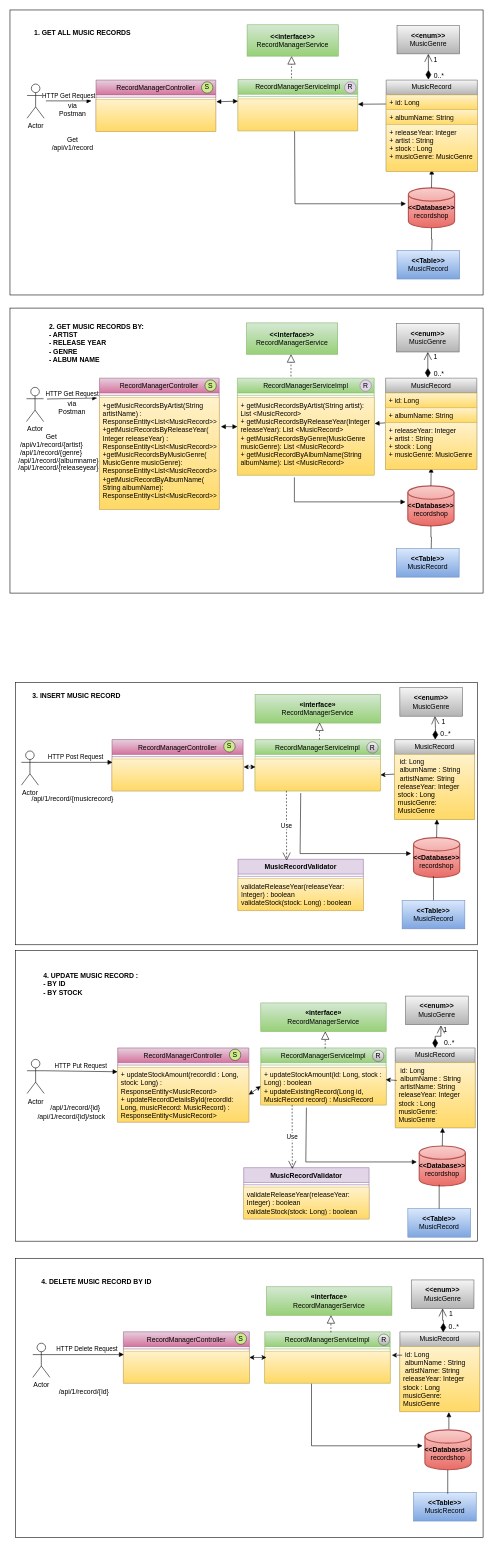
The diagram is 493 pixels wide and 1548 high, and some of its shapes have lost their labels. Here are the shapes that lost their labels. From the top down, the centre of each, then its label:
At point 155,115: "+ getAllMusicRecords() : ResponseEntity<List<MusicRecord>>".
At point 297,114: "+ getAllMusicRecords(): List <MusicRecord>".
At point 177,774: "+ addMusicRecord(MusicRecord) : ResponseEntity <MusicRecord>".
At point 317,774: "+ insertMusicRecord(MusicRecord musicRecord) : MusicRecord".
At point 186,1367: "+ deleteMusicRecordById(id : Long) : ResponseEntity <Void>".
At point 327,1367: "+ deleteReordById(Long id) : boolean".
